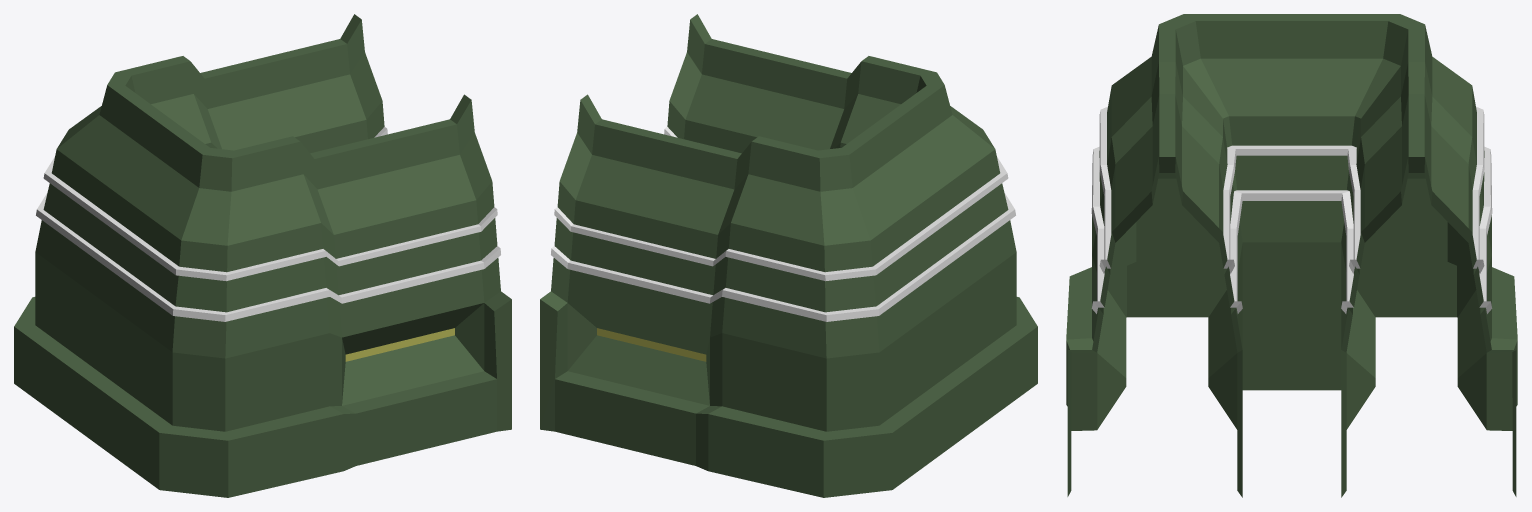
Rendered from Wand_Ecke_U.fbx.
3 views of the same model, side by side, from view 1: azimuth 30°, elevation 25°; view 2: azimuth 150°, elevation 25°; view 3: azimuth 270°, elevation 25° (orthographic). The views are drawn at different scales.
Visible parts, largest first — view 1: Wand_Ecke_U; view 2: Wand_Ecke_U; view 3: Wand_Ecke_U.
Boxes of the visible parts, x1,y1,x2,y2 form: Wand_Ecke_U: (14, 14, 511, 497); Wand_Ecke_U: (540, 14, 1037, 497); Wand_Ecke_U: (1066, 14, 1517, 497).
Bounding box in the file's own units: 152 × 134 × 161.
